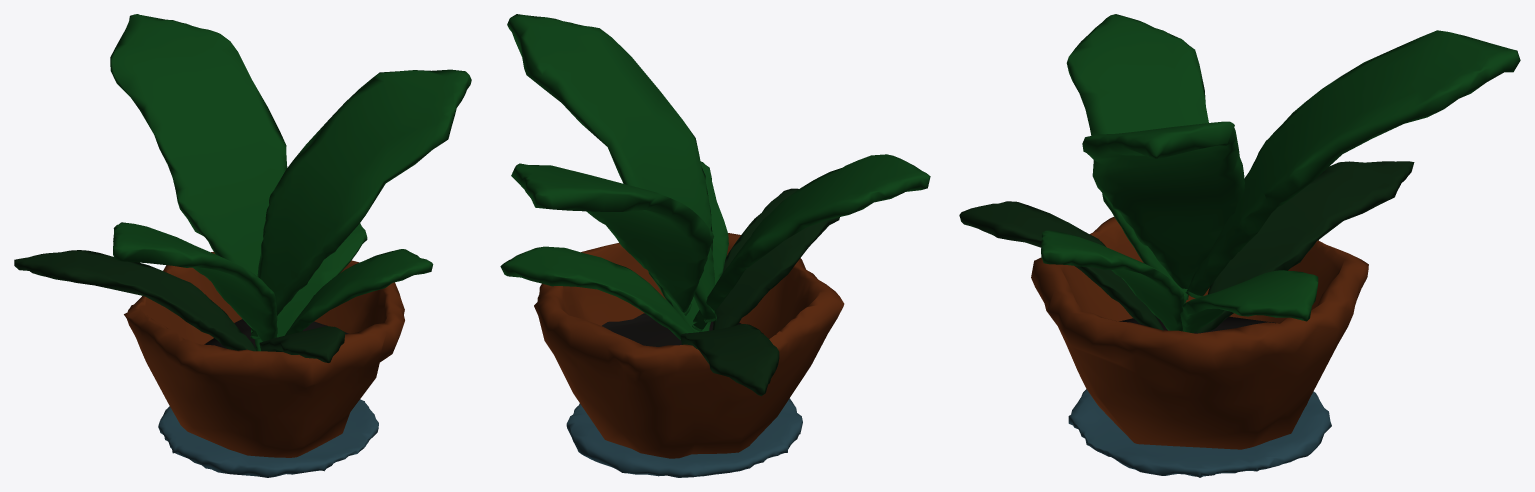
The model's file is msh_Plant_01.fbx.
3 renders of one model, left to right at view 1: azimuth 30°, elevation 25°; view 2: azimuth 150°, elevation 25°; view 3: azimuth 270°, elevation 25°, orthographic. The views are drawn at different scales.
Parts seen in each view (by area): view 1: plant_01; view 2: plant_01; view 3: plant_01.
Boxes of the visible parts, x1,y1,x2,y2 form: plant_01: [14, 14, 471, 477]; plant_01: [500, 14, 930, 477]; plant_01: [959, 14, 1520, 477].
Bounding box in the file's own units: 1.93 × 1.65 × 2.12.
